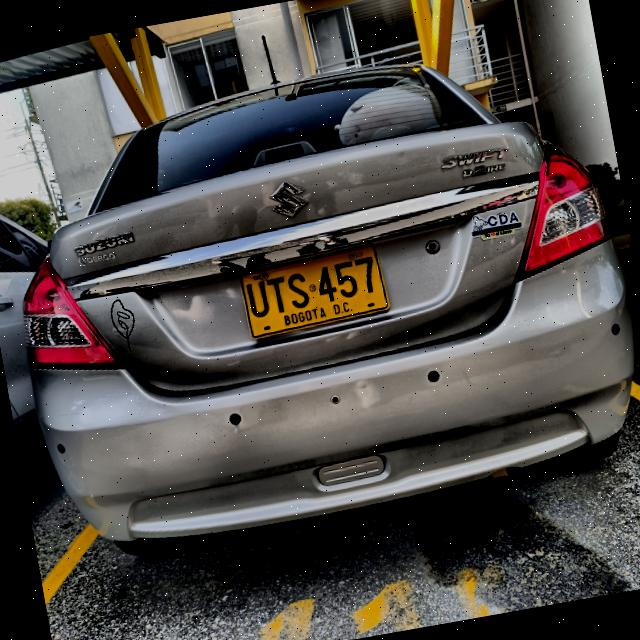plate: (239, 244, 388, 337)
